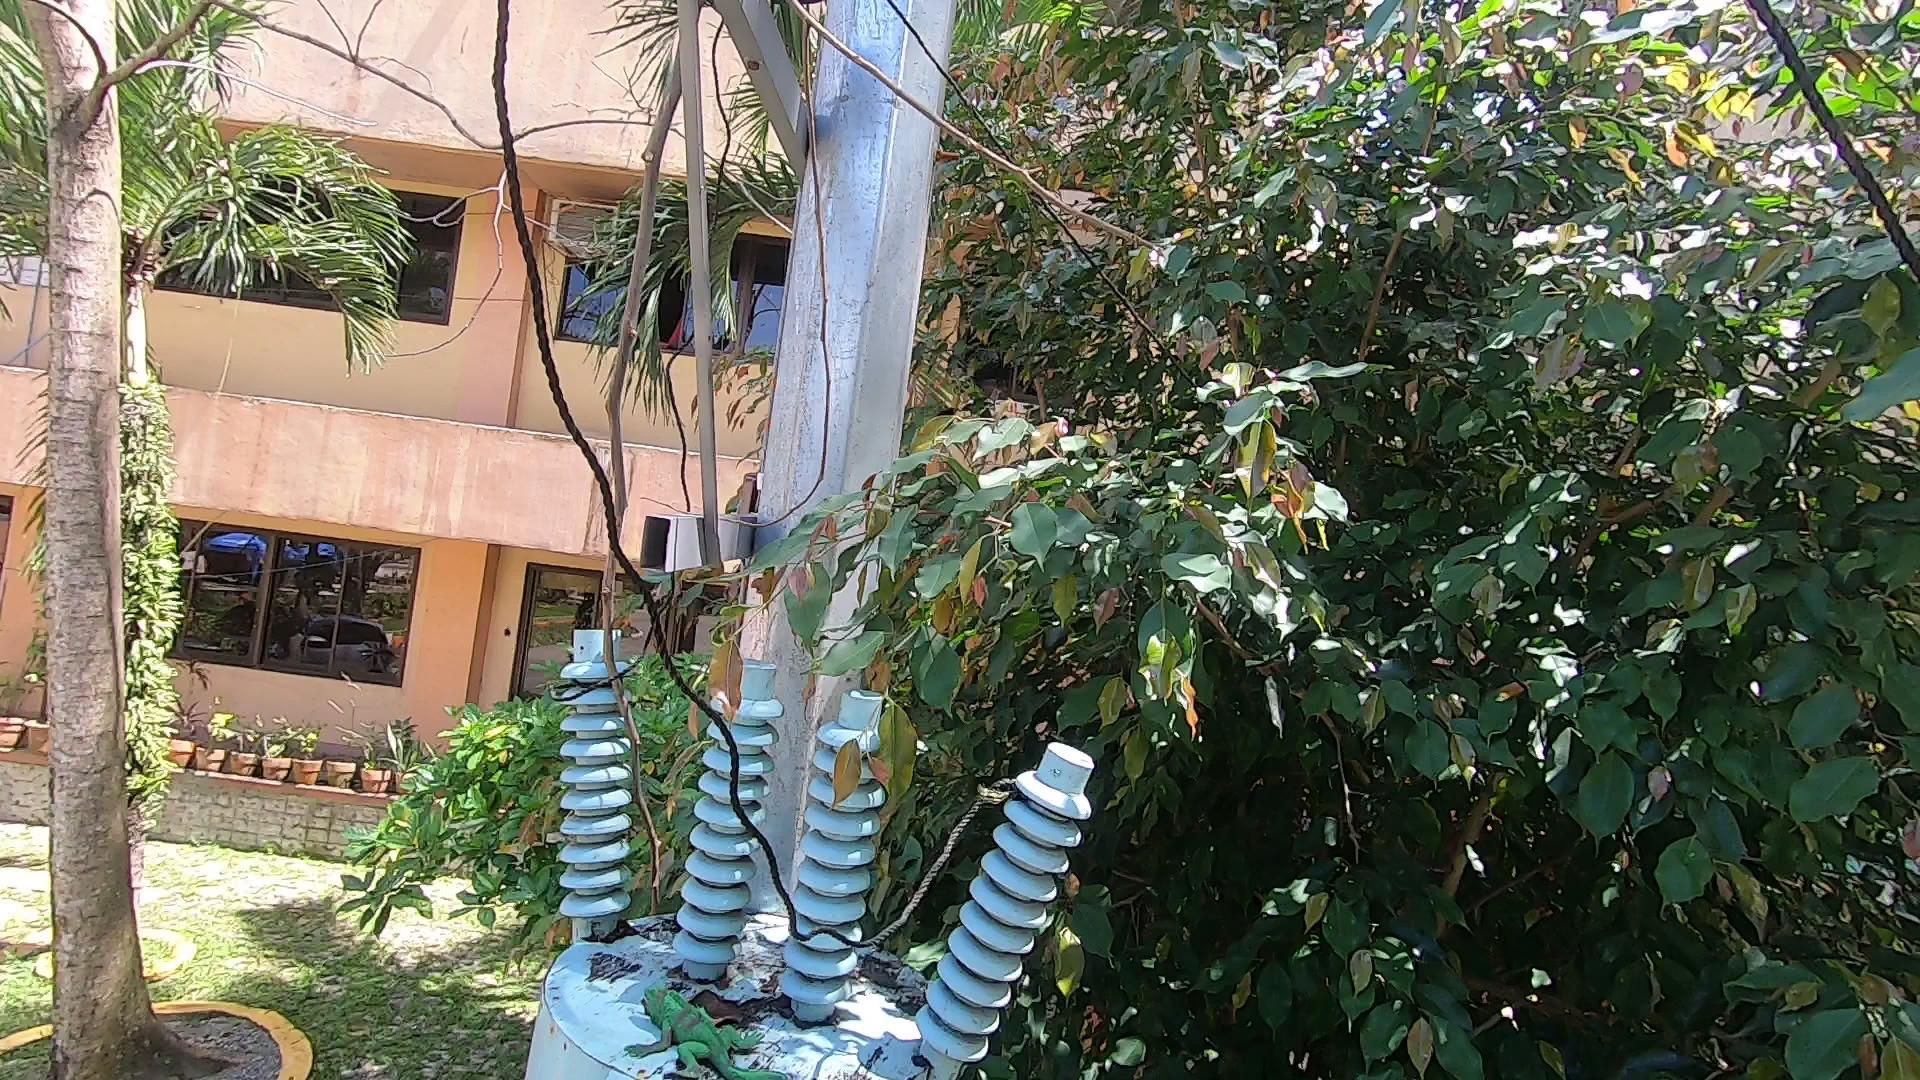branch with leaves: (665, 518, 1007, 810)
leaf: (683, 980, 790, 1027), (862, 944, 922, 1014), (589, 910, 649, 949)
tree branch: (554, 3, 1153, 914)
